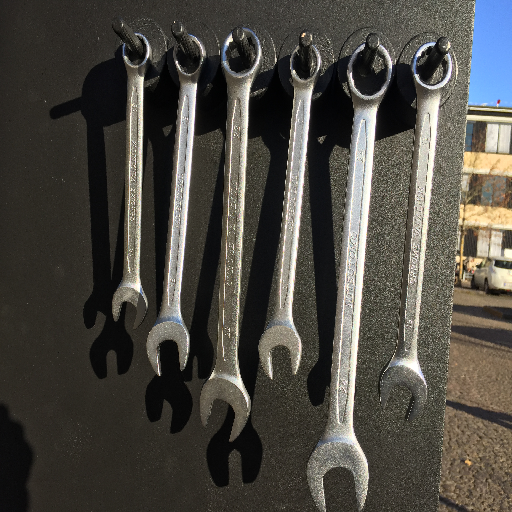bottom: (304, 435, 372, 512), (197, 368, 253, 444), (376, 359, 430, 426), (255, 323, 305, 382), (144, 317, 192, 378), (109, 282, 150, 332)
top: (343, 40, 396, 107), (218, 26, 267, 85), (409, 39, 455, 99), (170, 34, 209, 83), (288, 42, 324, 91), (119, 31, 154, 72)
